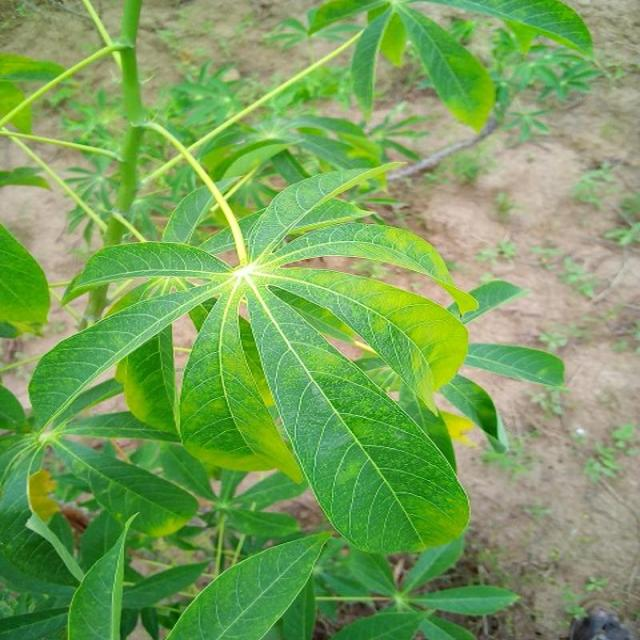cassava leaf: (34, 160, 484, 555), (246, 272, 472, 556)
